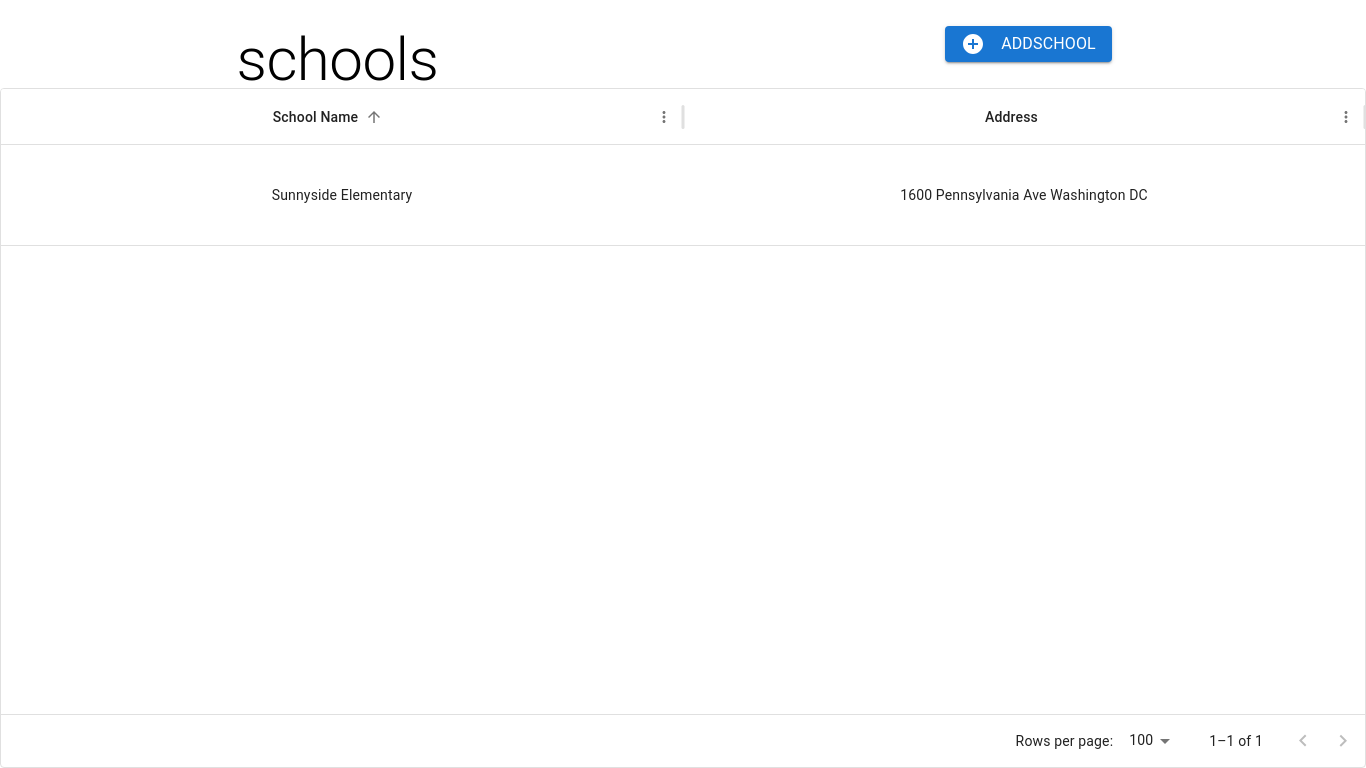
Schools Tests › opens add school modal when add school button clicked, and closes on cancel click
This screenshot has width=1366, height=768.
Click the button "addSchool".
click(1028, 44)  # box [945,26,1112,62]
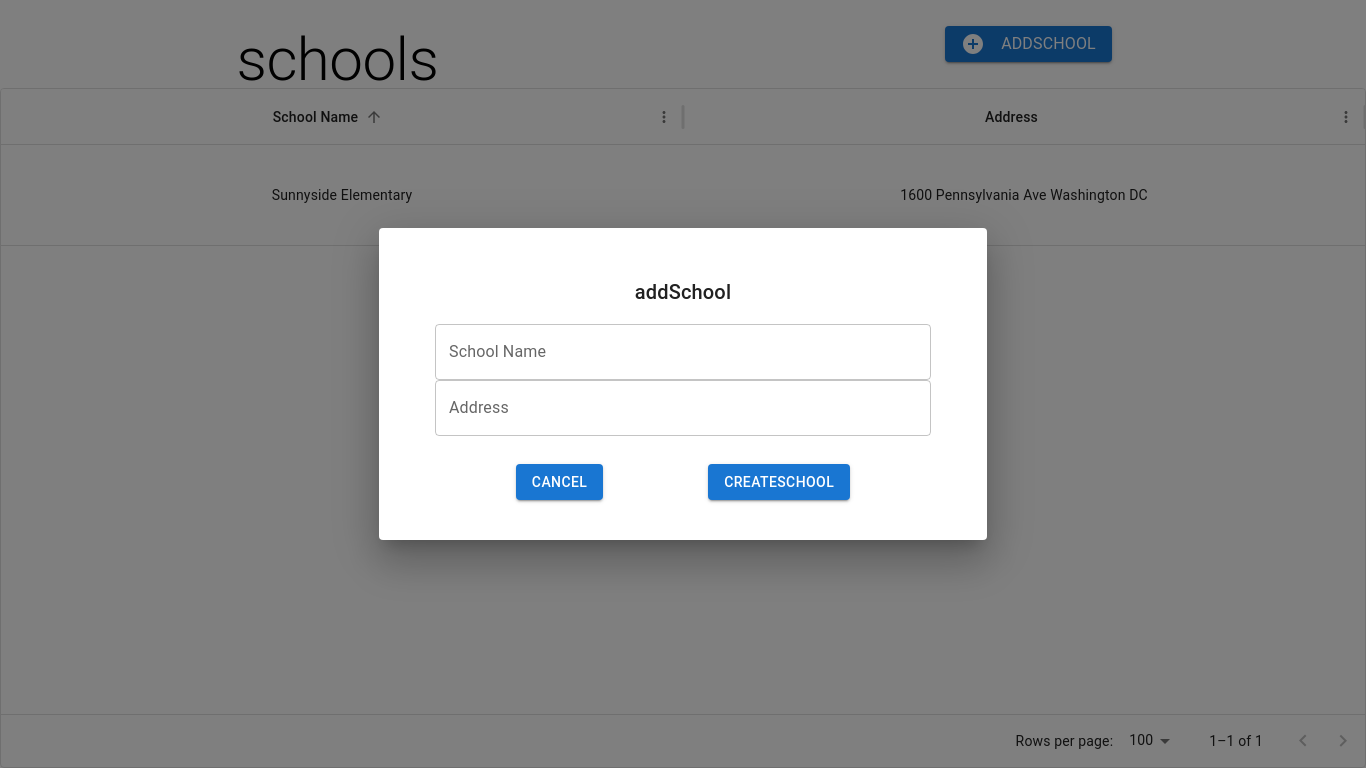
Now the button "createSchool" is shown, box [708,464,850,500]
Now the button "cancel" is shown
Click the button "cancel".
click(560, 482)  # box [516,464,603,500]
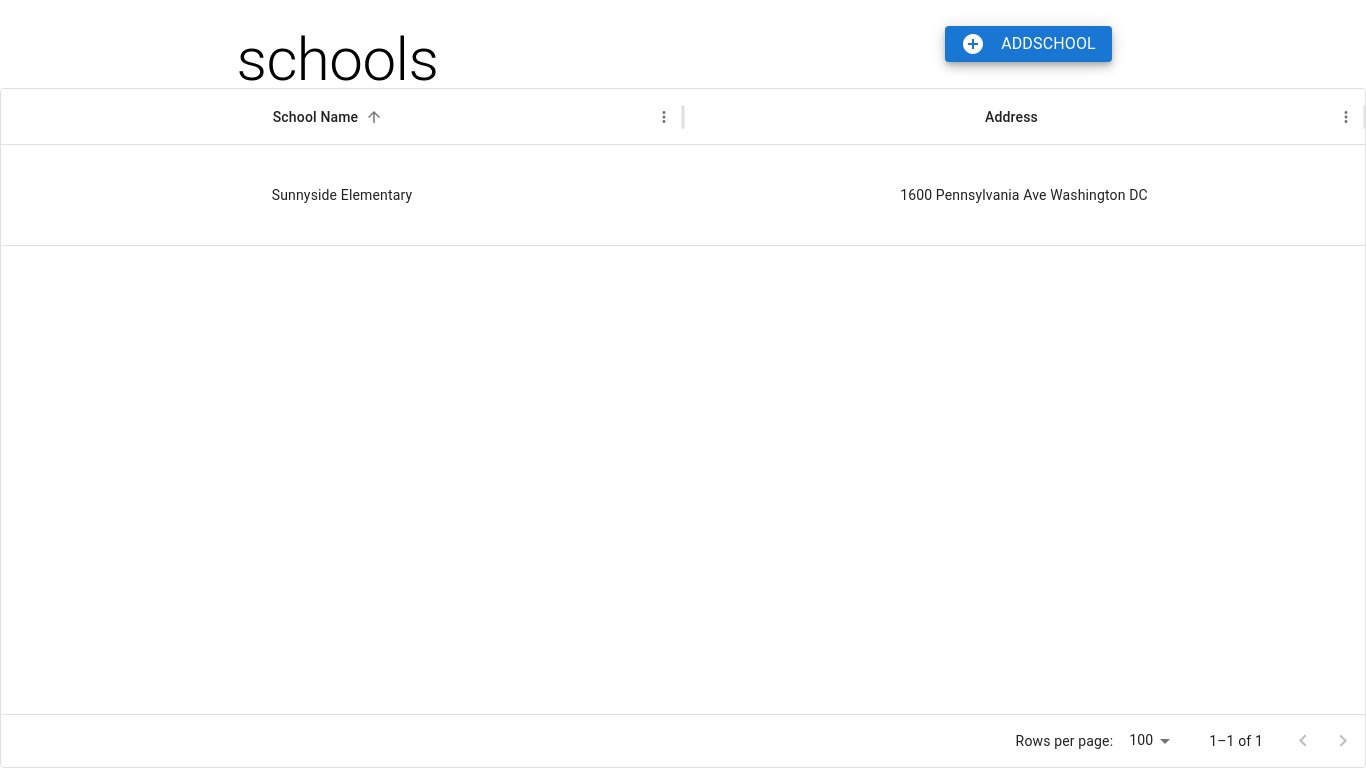
Now the button "cancel" is gone
